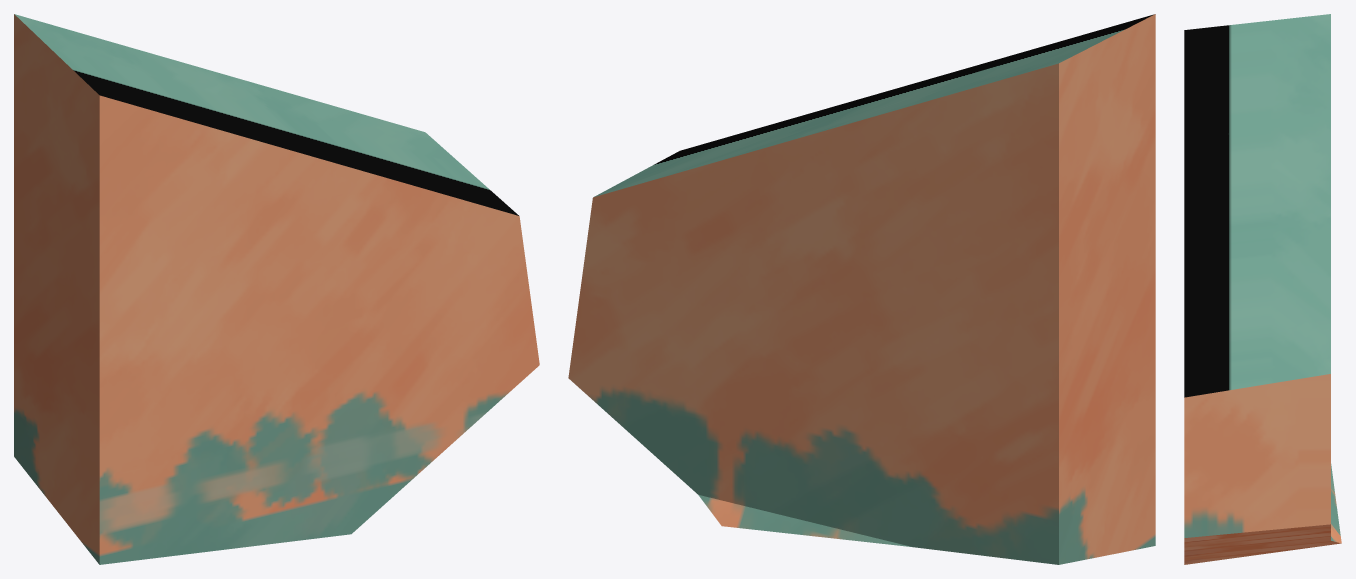
The model's file is wall_plain_s08.fbx.
3 views of the same model, side by side, from view 1: azimuth 30°, elevation 25°; view 2: azimuth 150°, elevation 25°; view 3: azimuth 270°, elevation 25° (orthographic). The views are drawn at different scales.
Visible parts, largest first — view 1: wall_plain_s08; view 2: wall_plain_s08; view 3: wall_plain_s08.
Part boxes in pixels (left/top/right/bottom): wall_plain_s08: left=14, top=14, right=539, bottom=564; wall_plain_s08: left=568, top=14, right=1155, bottom=564; wall_plain_s08: left=1184, top=14, right=1341, bottom=564.
Size of the model in its own units: 2.98 by 3.35 by 1.07.
